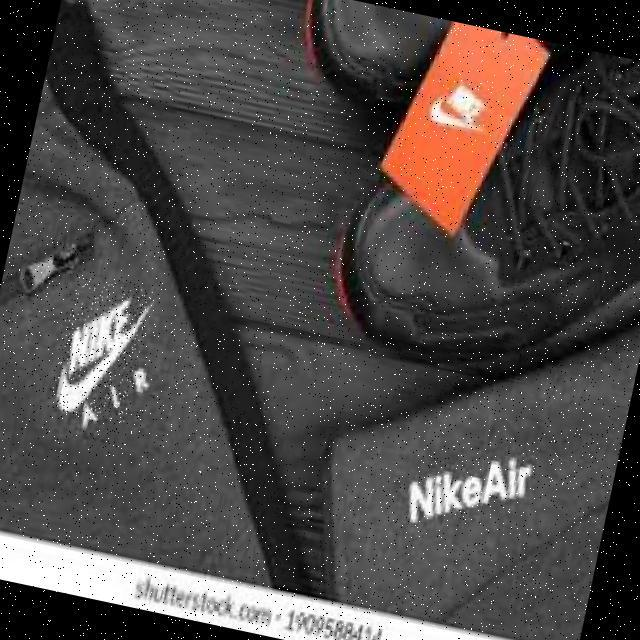Nike: (46, 274, 153, 424), (425, 70, 495, 135)
